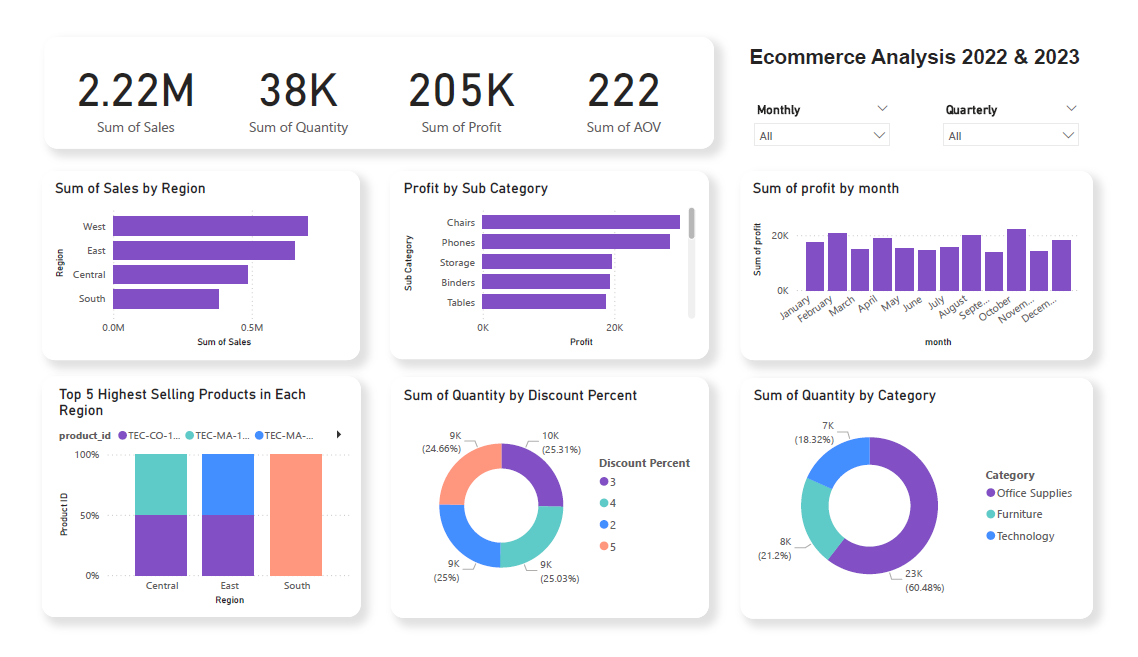

What the dashboard file says about the page in this screenshot:
{"tool":"powerbi","page":{"name":"Ecommerce Analysis","canvas":[1280,720],"ordinal":0},"visuals":[{"type":"shape","box":[29.1,19.3,779.1,130.1],"z":0},{"type":"shape","box":[26.4,414.2,370.9,279.8],"z":1000},{"type":"shape","box":[431.5,414.7,370.9,280],"z":2000},{"type":"shape","box":[839.3,415.5,410,280],"z":3000},{"type":"shape","box":[839.3,174.7,410,220],"z":4000},{"type":"shape","box":[26.4,174.7,370,220],"z":5000},{"type":"shape","box":[431.1,174.8,370.9,219.6],"z":6000},{"type":"hundredPercentStackedColumnChart","title":"Top 5 Highest Selling Products in Each Region","fields":{"Category":["Top_5_Sales.region"],"Y":["CountNonNull(Top_5_Sales.product_id)"],"Series":["Top_5_Sales.product_id"]},"box":[41,424.1,350,260],"z":7000},{"type":"card","fields":{"Values":["Sum(public sales_data.sale_price)"]},"box":[39.7,29.8,190.3,109],"z":8000,"group":"g1"},{"type":"clusteredBarChart","fields":{"Y":["Sum(public sales_data.sale_price)"],"Category":["public sales_data.region"]},"box":[36.4,184.7,350,200],"z":8000},{"type":"donutChart","fields":{"Y":["Sum(public sales_data.quantity)"],"Category":["public sales_data.category"]},"box":[849.2,425.4,390,260.2],"z":9000},{"type":"card","fields":{"Values":["Sum(public sales_data.quantity)"]},"box":[230,29.8,188.7,109],"z":10000,"group":"g1"},{"type":"donutChart","fields":{"Y":["Sum(public sales_data.quantity)"],"Category":["public sales_data.discount_percent"]},"box":[442,424.7,350,260],"z":10000},{"type":"clusteredBarChart","fields":{"Y":["Sum(public sales_data.profit)"],"Category":["public sales_data.sub_category"]},"box":[441.7,184.6,349.7,200.1],"z":11000},{"type":"card","fields":{"Values":["Sum(public sales_data.profit)"]},"box":[418.7,29.8,190.3,109],"z":12000,"group":"g1"},{"type":"clusteredColumnChart","fields":{"Category":["public sales_data.month"],"Y":["Sum(public sales_data.profit)"]},"box":[847.9,184.7,390.4,200.1],"z":12000},{"type":"slicer","fields":{"Values":["public sales_data.quarter"]},"box":[1058.9,85,190.3,69.9],"z":13000},{"type":"group","id":"g1","title":"Group 1","box":[39.7,29.8,758,109],"z":14000},{"type":"textbox","box":[839.3,19.3,409.9,50.4],"z":15000},{"type":"slicer","fields":{"Values":["public sales_data.order_date.Variation.Date Hierarchy.Month"]},"box":[839.3,85,190,70],"z":16000},{"type":"card","fields":{"Values":["public sales_data.AOV"]},"box":[607.4,29.8,190.3,109],"z":18000,"group":"g1"}]}

Visuals, with their boxes in screenshot pixels (x1, y1, x2, y2), scaled from the page's 1280x720 canvas onto the 1138x657 screenshot:
shape: box=[26, 18, 719, 136]
shape: box=[23, 378, 353, 633]
shape: box=[384, 378, 713, 634]
shape: box=[746, 379, 1111, 635]
shape: box=[746, 159, 1111, 360]
shape: box=[23, 159, 352, 360]
shape: box=[383, 160, 713, 360]
"Top 5 Highest Selling Products in Each Region" hundredPercentStackedColumnChart: box=[36, 387, 348, 624]
card - Sum(public sales_data.sale_price): box=[35, 27, 204, 127]
clusteredBarChart - Sum(public sales_data.sale_price) x public sales_data.region: box=[32, 169, 344, 351]
donutChart - Sum(public sales_data.quantity) x public sales_data.category: box=[755, 388, 1102, 626]
card - Sum(public sales_data.quantity): box=[204, 27, 372, 127]
donutChart - Sum(public sales_data.quantity) x public sales_data.discount_percent: box=[393, 388, 704, 625]
clusteredBarChart - Sum(public sales_data.profit) x public sales_data.sub_category: box=[393, 168, 704, 351]
card - Sum(public sales_data.profit): box=[372, 27, 541, 127]
clusteredColumnChart - public sales_data.month x Sum(public sales_data.profit): box=[754, 169, 1101, 351]
slicer - public sales_data.quarter: box=[941, 78, 1111, 141]
"Group 1" group: box=[35, 27, 709, 127]
textbox: box=[746, 18, 1111, 64]
slicer - public sales_data.order_date.Variation.Date Hierarchy.Month: box=[746, 78, 915, 141]
card - public sales_data.AOV: box=[540, 27, 709, 127]
